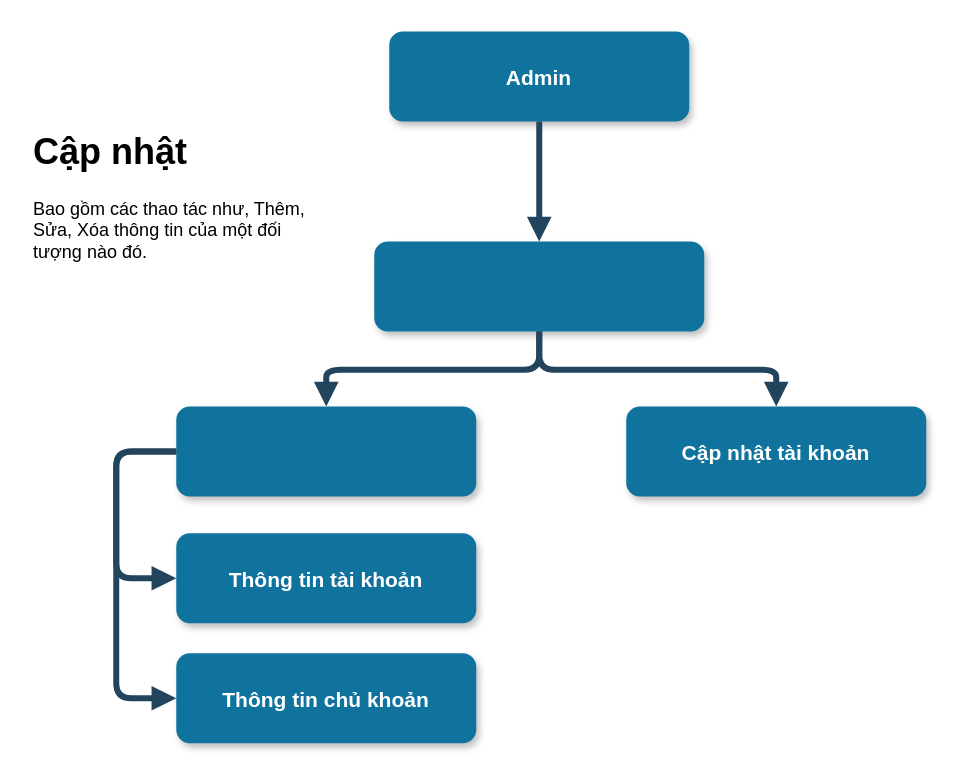
Image size: 960x780. Some labels were removed from this diagram. The centre of each missing label's shape, as x and y in pixels:
Quản lý tài khoản: point (540, 288)
Xem thông tin tài khoản: point (327, 453)
